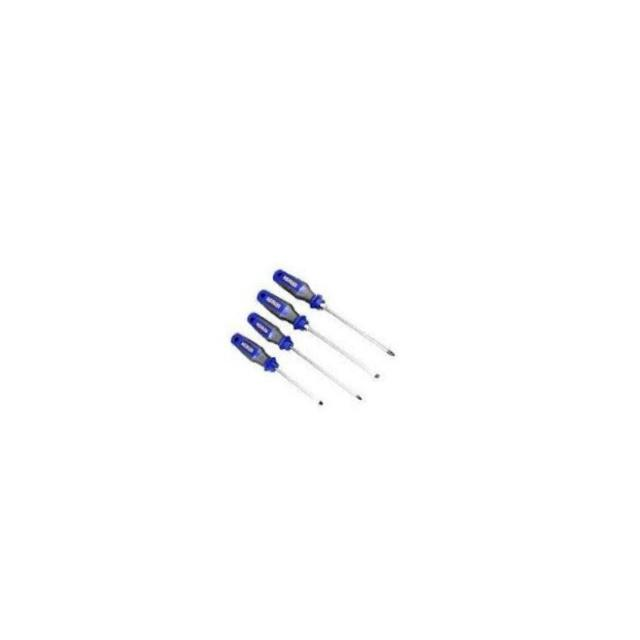screwdriver: (254, 264, 382, 407), (270, 242, 398, 384), (244, 288, 368, 426), (228, 314, 328, 425)
